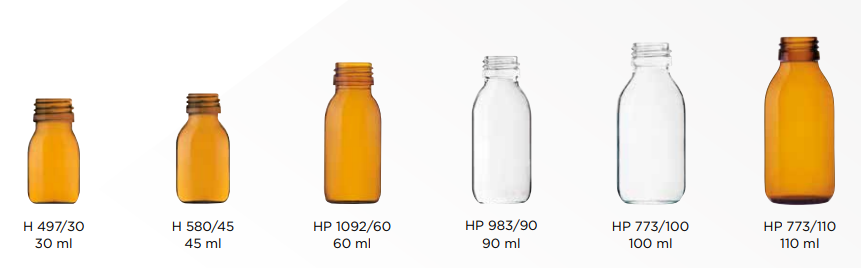glass_bottle: (755, 27, 841, 213), (609, 36, 692, 212), (463, 50, 537, 211), (316, 59, 386, 210), (23, 93, 94, 210), (173, 91, 236, 210)
